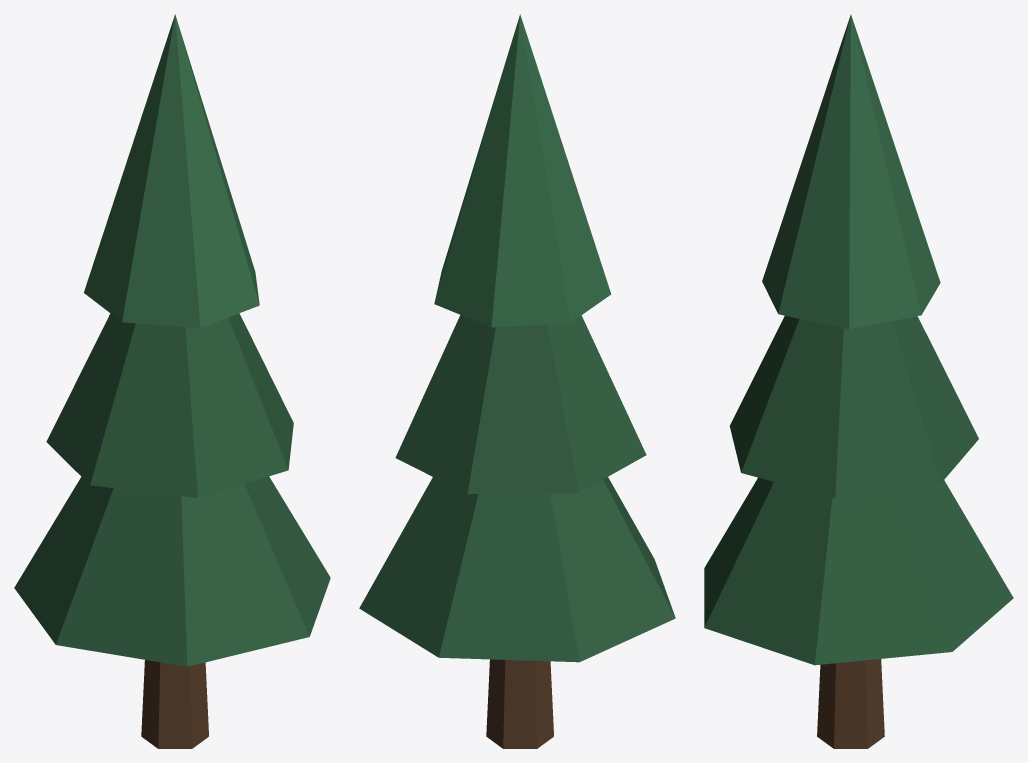
Rendered from nat-pinheiro.gltf.
The picture shows the model from 3 angles, left to right: view 1: azimuth 30°, elevation 25°; view 2: azimuth 150°, elevation 25°; view 3: azimuth 270°, elevation 25°; orthographic projection.
Parts seen in each view (by area): view 1: nat-pinheiro; view 2: nat-pinheiro; view 3: nat-pinheiro.
Boxes of the visible parts, x1=… form: nat-pinheiro: x1=14, y1=14, x2=330, y2=748; nat-pinheiro: x1=359, y1=14, x2=675, y2=748; nat-pinheiro: x1=704, y1=14, x2=1013, y2=748.
Size of the model in its own units: 0.9359 by 2.35 by 0.9125.
